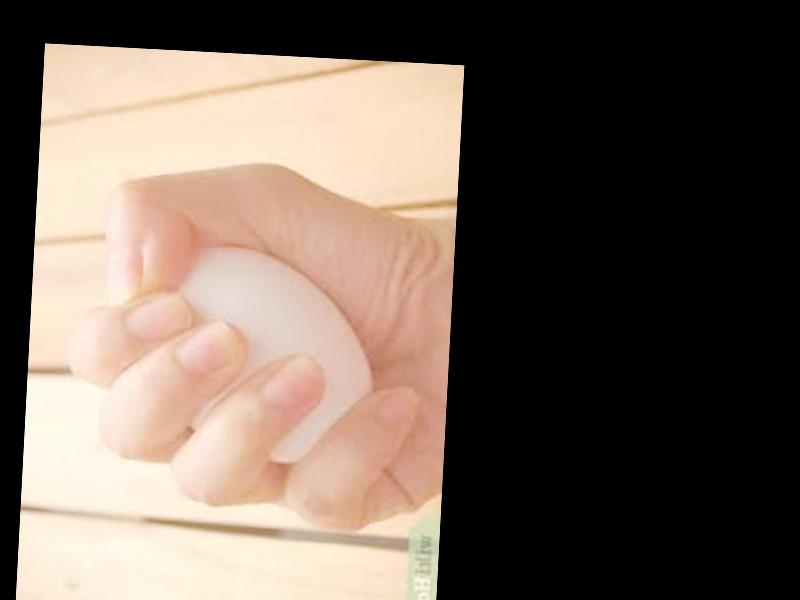Eggs: (147, 243, 378, 470)
